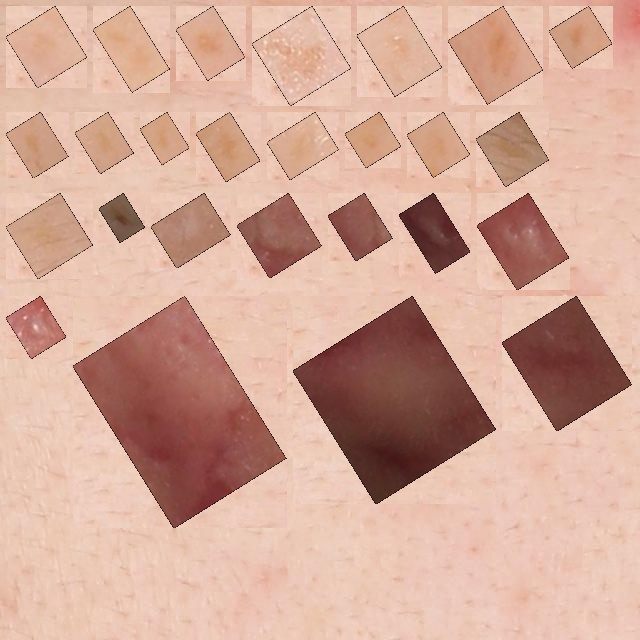hypertrophic_scar: (84, 307, 275, 517), (304, 307, 485, 493), (513, 307, 621, 420), (488, 204, 558, 279), (248, 204, 311, 267), (162, 204, 219, 257), (410, 204, 459, 262), (339, 204, 382, 250), (17, 307, 55, 347)
melasma: (263, 17, 340, 95), (459, 17, 532, 93), (368, 17, 431, 85), (17, 204, 82, 268), (17, 17, 76, 77), (104, 17, 159, 81), (487, 123, 538, 175), (187, 17, 234, 69), (278, 123, 328, 168), (207, 123, 249, 171), (418, 123, 459, 166), (17, 123, 57, 167), (560, 17, 601, 57), (86, 123, 122, 162), (356, 123, 390, 157), (151, 123, 178, 154)
nevus: (110, 204, 134, 231)
